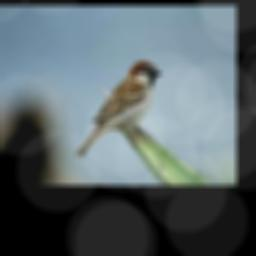Sparrow: (75, 59, 160, 157)
